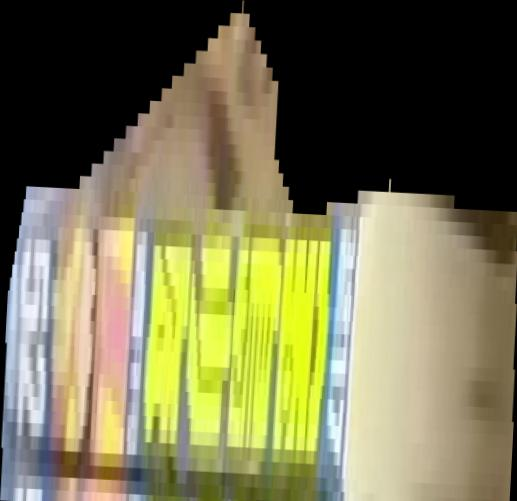flat: (1, 1, 517, 501)
